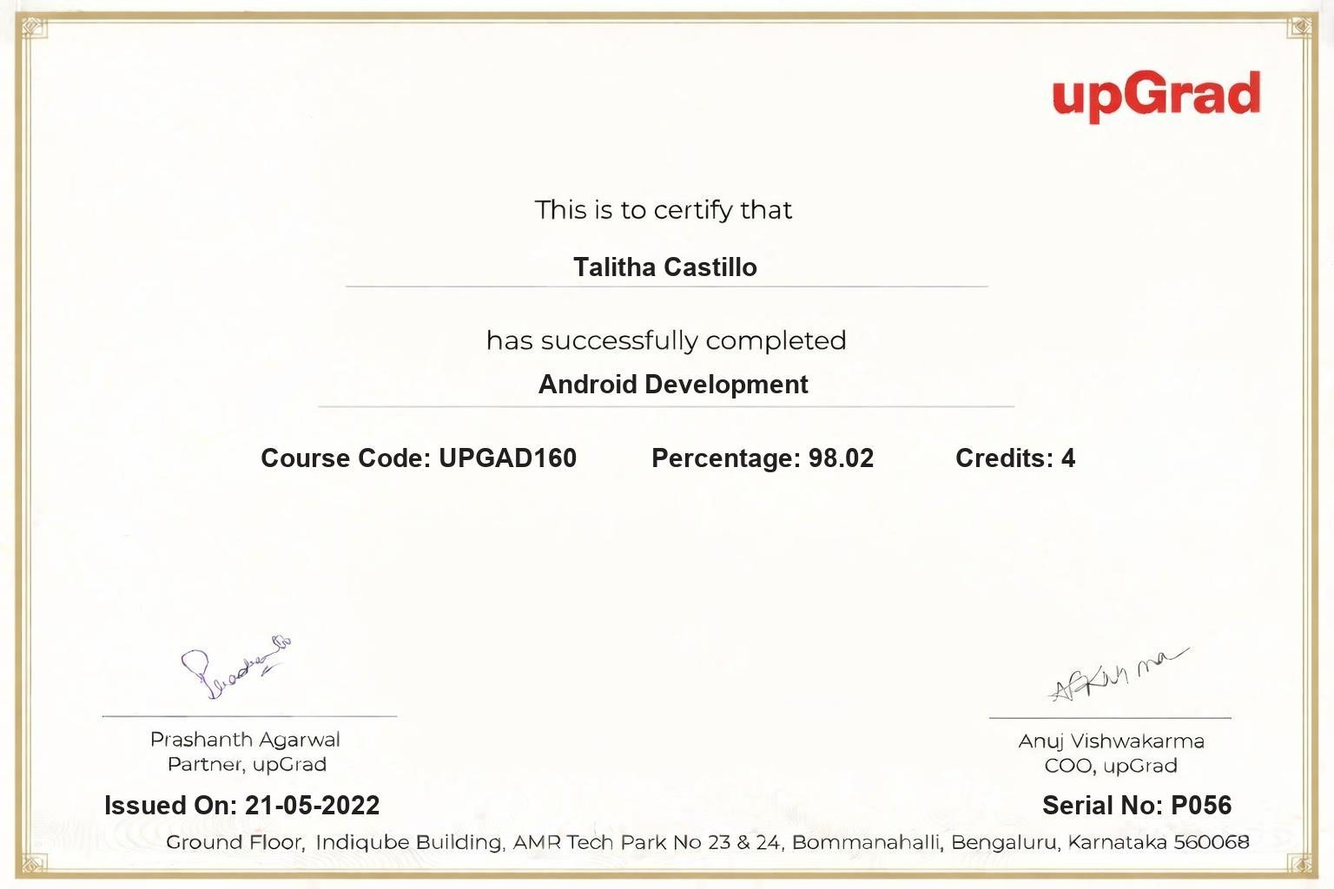Course Code: (433, 442, 589, 482)
Course Name: (531, 359, 819, 404)
Credits: (1054, 440, 1089, 477)
Issued On: (242, 782, 389, 824)
Percentage: (802, 437, 879, 481)
Serial No: (1167, 782, 1239, 827)
Student Name: (557, 245, 766, 287)
